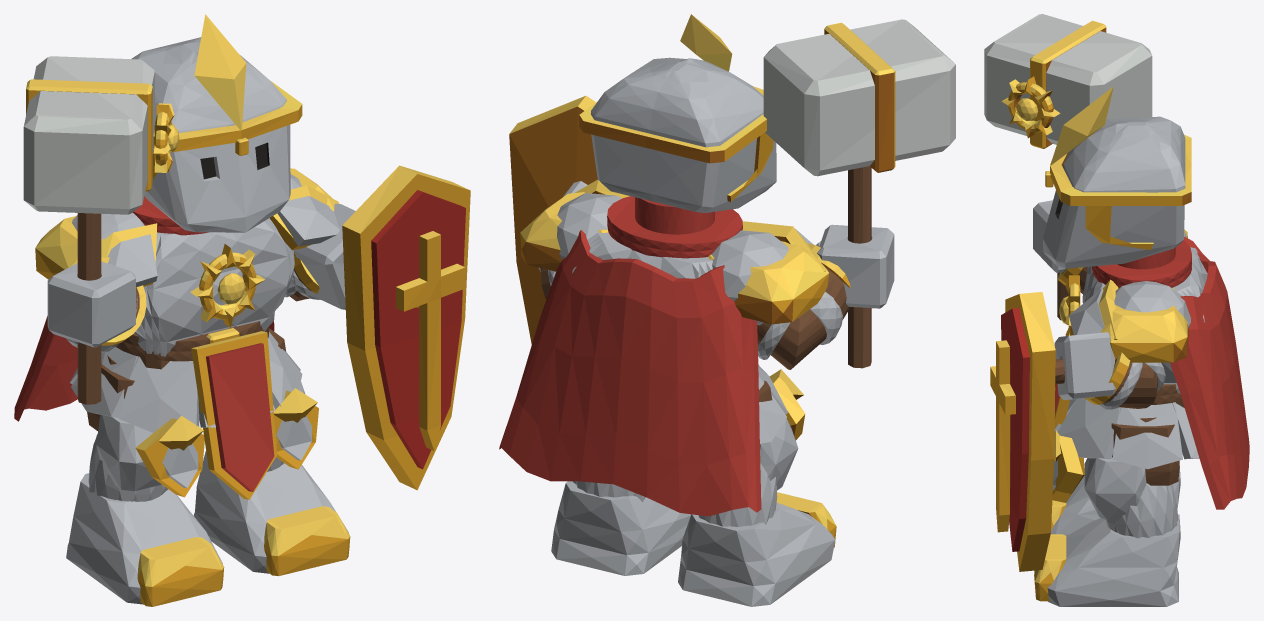
The model's file is kingdomprotector.glb.
3 views of the same model, side by side, from view 1: azimuth 30°, elevation 25°; view 2: azimuth 150°, elevation 25°; view 3: azimuth 270°, elevation 25° (orthographic). The views are drawn at different scales.
Parts seen in each view (by area): view 1: Weapon — source attack-oriented broad silver hammer head, Headwear — V6 broad angular visor with compact source facete, Equipment — actual deep vermilion shield field, Equipment — actual convex pointed gold source shield, Armor — continuous shaped faceted cuirass, Foot — right segmented planted angular armor boot, Foot — left segmented planted angular armor boot, Clothing — rich red pointed front tabard, Hand — right stronger compact source grasp continuous with a, Equipment — actual gold source shield raised cross, Foot — right actual outer source gold toe perimeter, Foot — left actual outer source gold toe perimeter (+29 smaller); view 2: Clothing — connected curved faceted red source cape, Weapon — source attack-oriented broad silver hammer head, Headwear — V6 broad angular visor with compact source facete, Foot — right segmented planted angular armor boot, Equipment — actual convex pointed gold source shield, Foot — left segmented planted angular armor boot, Armor — right continuous full pauldron posterior return, Hand — right stronger compact source grasp continuous with a, Clothing — fitted red source neck wrap, Weapon — source central gold hammer side brace, Headwear — actual fitted source angular gold brow band, Weapon — straight hammer handle (+17 smaller); view 3: Headwear — V6 broad angular visor with compact source facete, Weapon — source attack-oriented broad silver hammer head, Clothing — connected curved faceted red source cape, Foot — left segmented planted angular armor boot, Equipment — actual convex pointed gold source shield, Equipment — actual deep vermilion shield field, Armor — left continuous full pauldron posterior return, Hand — left stronger compact source grasp continuous with ac, Armor — articulated shaped tasset 7, Equipment — actual gold source shield raised cross, Armor — left broad angular articulated knee, Headwear — actual fitted source angular gold brow band (+22 smaller).
Boxes of the visible parts, x1,y1,x2,y2 form: Weapon — source attack-oriented broad silver hammer head: [23, 56, 154, 214]; Headwear — V6 broad angular visor with compact source facete: [131, 37, 290, 232]; Equipment — actual deep vermilion shield field: [371, 190, 465, 469]; Equipment — actual convex pointed gold source shield: [342, 165, 470, 490]; Armor — continuous shaped faceted cuirass: [134, 218, 294, 356]; Foot — right segmented planted angular armor boot: [66, 473, 222, 604]; Foot — left segmented planted angular armor boot: [193, 451, 348, 573]; Clothing — rich red pointed front tabard: [206, 343, 274, 491]; Hand — right stronger compact source grasp continuous with a: [47, 261, 135, 347]; Equipment — actual gold source shield raised cross: [396, 231, 465, 450]; Foot — right actual outer source gold toe perimeter: [137, 537, 224, 606]; Foot — left actual outer source gold toe perimeter: [264, 506, 350, 576]; Clothing — connected curved faceted red source cape: [499, 230, 761, 516]; Weapon — source attack-oriented broad silver hammer head: [763, 19, 955, 176]; Headwear — V6 broad angular visor with compact source facete: [591, 57, 776, 212]; Foot — right segmented planted angular armor boot: [678, 502, 835, 606]; Equipment — actual convex pointed gold source shield: [509, 95, 597, 344]; Foot — left segmented planted angular armor boot: [551, 481, 690, 575]; Armor — right continuous full pauldron posterior return: [708, 241, 829, 324]; Hand — right stronger compact source grasp continuous with a: [816, 224, 894, 308]; Clothing — fitted red source neck wrap: [607, 196, 742, 258]; Weapon — source central gold hammer side brace: [824, 22, 895, 172]; Headwear — actual fitted source angular gold brow band: [579, 86, 766, 163]; Weapon — straight hammer handle: [848, 166, 871, 368]; Headwear — V6 broad angular visor with compact source facete: [1043, 116, 1185, 268]; Weapon — source attack-oriented broad silver hammer head: [984, 14, 1152, 144]; Clothing — connected curved faceted red source cape: [1170, 236, 1249, 509]; Foot — left segmented planted angular armor boot: [1047, 514, 1180, 606]; Equipment — actual convex pointed gold source shield: [1005, 292, 1055, 571]; Equipment — actual deep vermilion shield field: [1001, 308, 1029, 551]; Armor — left continuous full pauldron posterior return: [1101, 288, 1188, 362]; Hand — left stronger compact source grasp continuous with ac: [1054, 332, 1115, 400]; Armor — articulated shaped tasset 7: [1112, 402, 1182, 469]; Equipment — actual gold source shield raised cross: [990, 340, 1015, 532]; Armor — left broad angular articulated knee: [1084, 457, 1146, 520]; Headwear — actual fitted source angular gold brow band: [1050, 134, 1191, 205].
Size of the model in its own units: 0.9953 by 1.17 by 0.5938.
